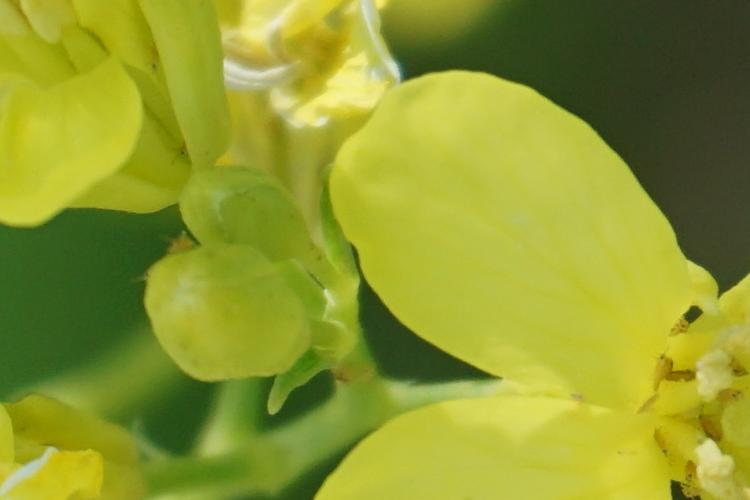bud: (140, 240, 316, 386), (185, 165, 316, 271)
yellow: (328, 70, 748, 500), (4, 1, 238, 222), (2, 393, 220, 500)
